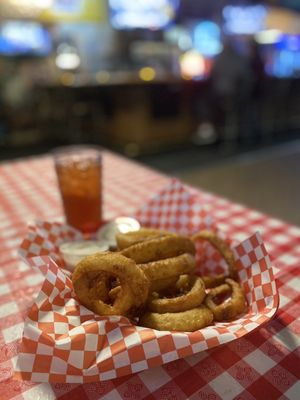pizza: (54, 150, 103, 234)
